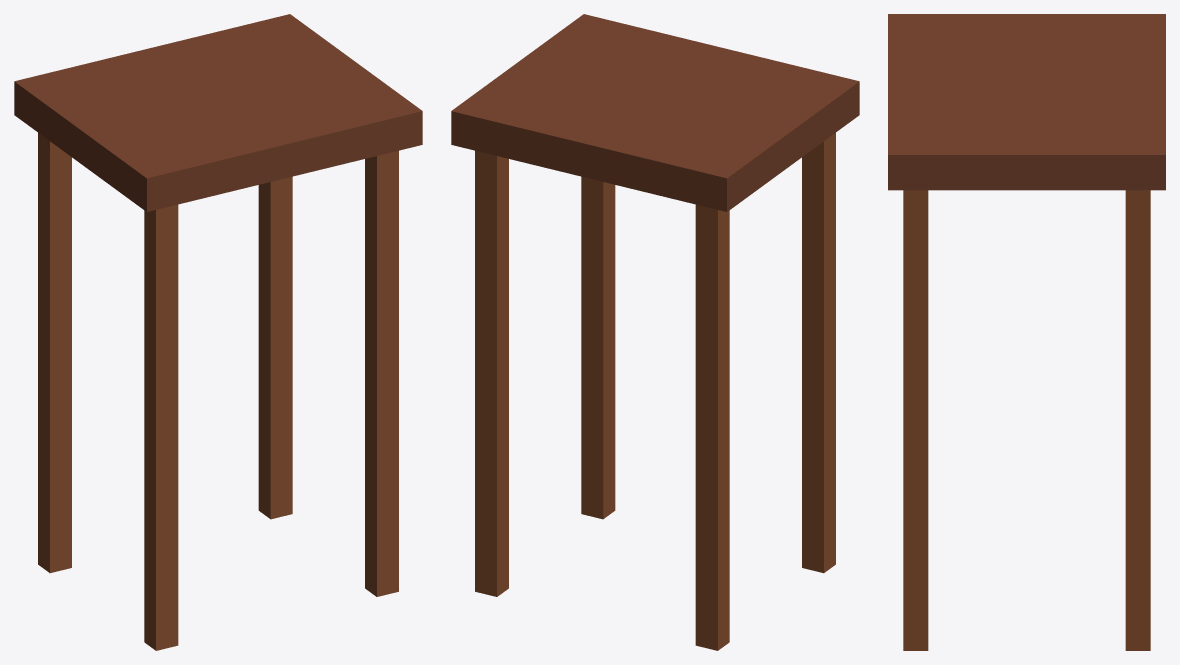
File: score_console.glb
3 renders of one model, left to right at view 1: azimuth 30°, elevation 25°; view 2: azimuth 150°, elevation 25°; view 3: azimuth 270°, elevation 25°, orthographic. The views are drawn at different scales.
Bounding box in the file's own units: 0.598 × 0.998 × 0.4979.
Materials: 1 (1 with a texture image).
